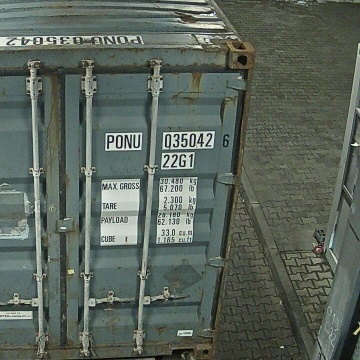serial_id: (107, 133, 230, 149)
